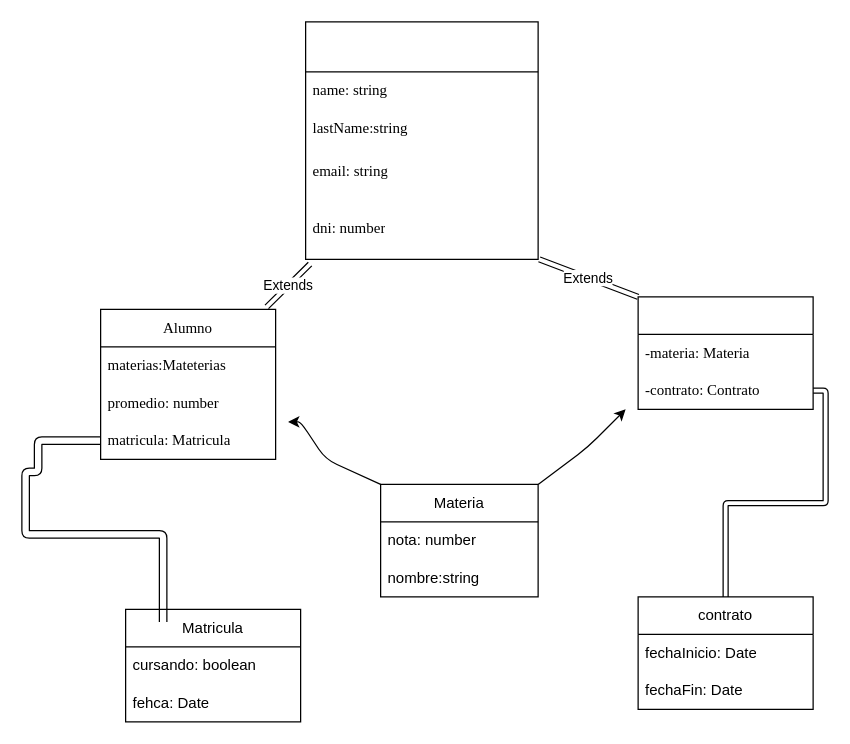
Some shapes in this 850 by 744 pixel diagram are drawn without their labels. Here are the shapes that lost their labels. From the top down, the box of each, then its label:
(304, 21, 538, 259): Persona
(637, 296, 813, 409): Profesor
